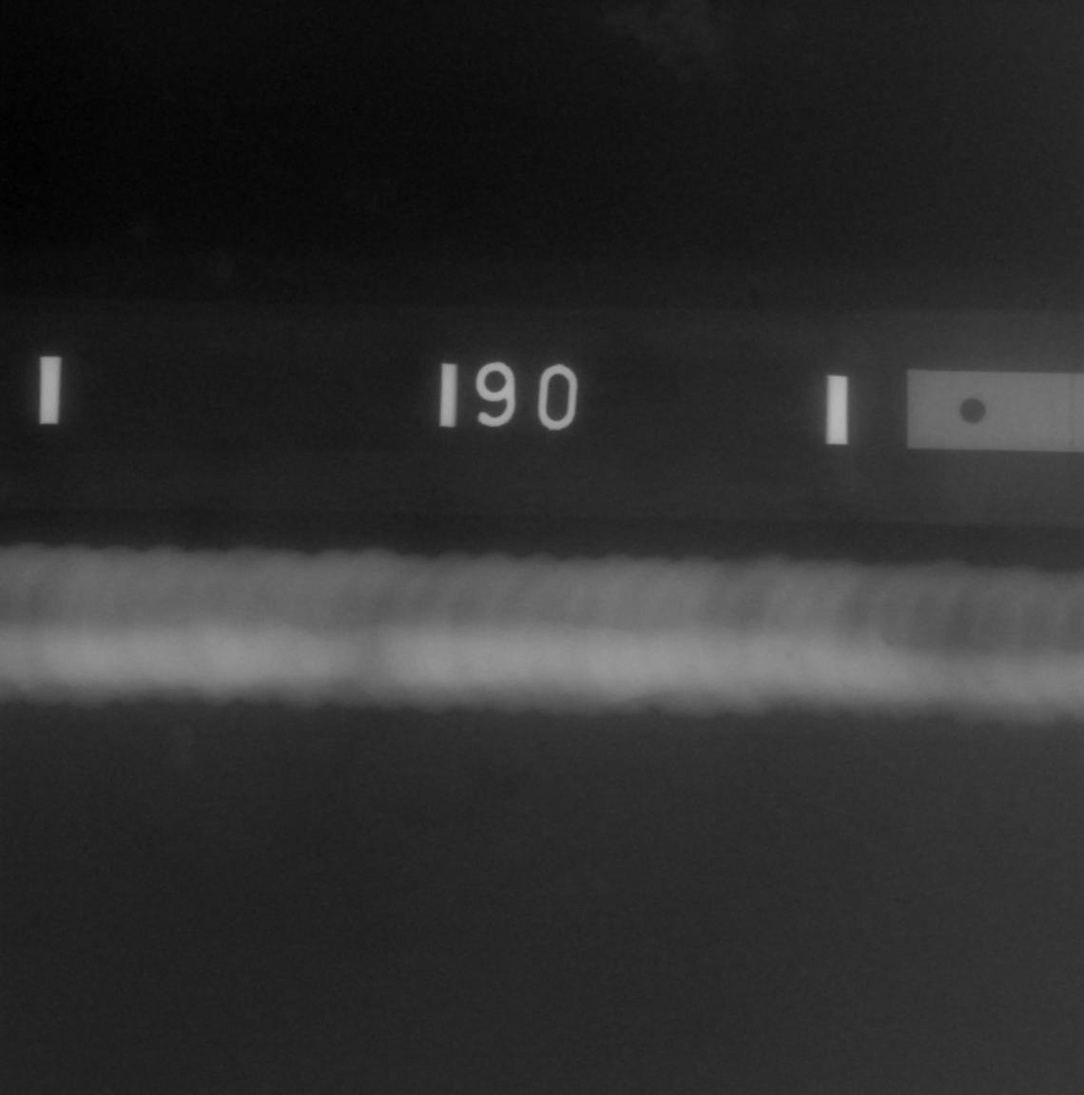Pore/Porosity: (786, 653, 795, 662), (563, 629, 570, 635), (323, 625, 328, 631), (984, 682, 990, 685)
